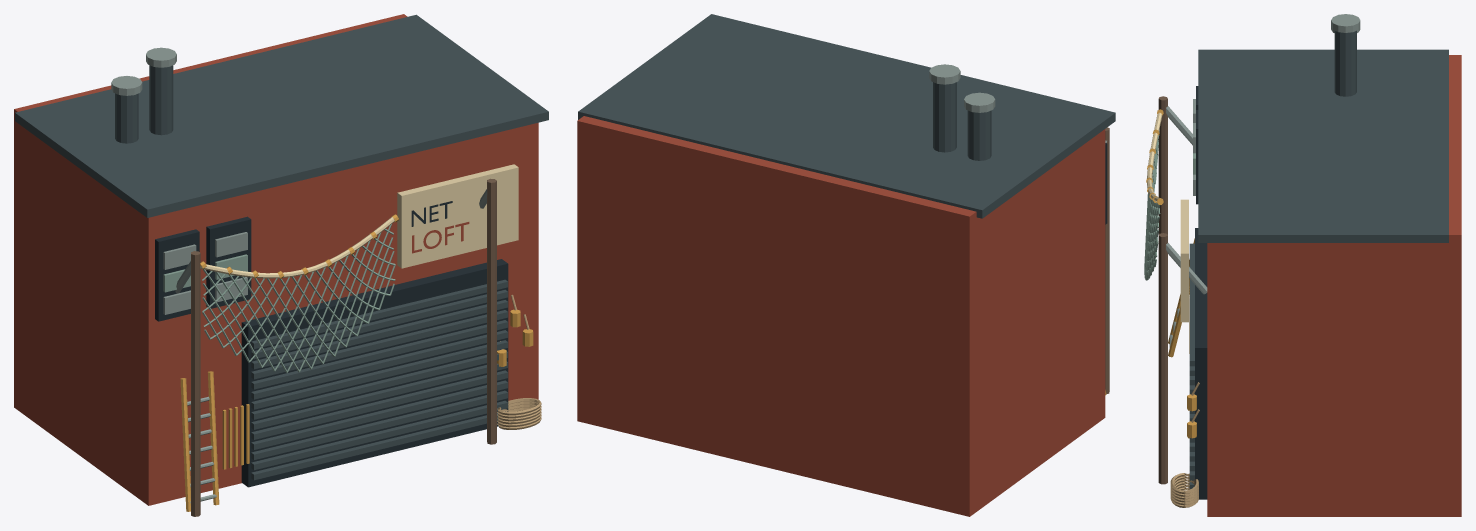
Rendered from net_loft.glb.
3 views of the same model, side by side, from view 1: azimuth 30°, elevation 25°; view 2: azimuth 150°, elevation 25°; view 3: azimuth 270°, elevation 25° (orthographic). The views are drawn at different scales.
Visible parts, largest first — view 1: net_loft; view 2: net_loft; view 3: net_loft.
Part boxes in pixels (<box>): net_loft: <box>14,14,548,516</box>; net_loft: <box>577,14,1115,516</box>; net_loft: <box>1144,14,1461,516</box>.
Bounding box in the file's own units: 8.96 × 8.04 × 6.49.
